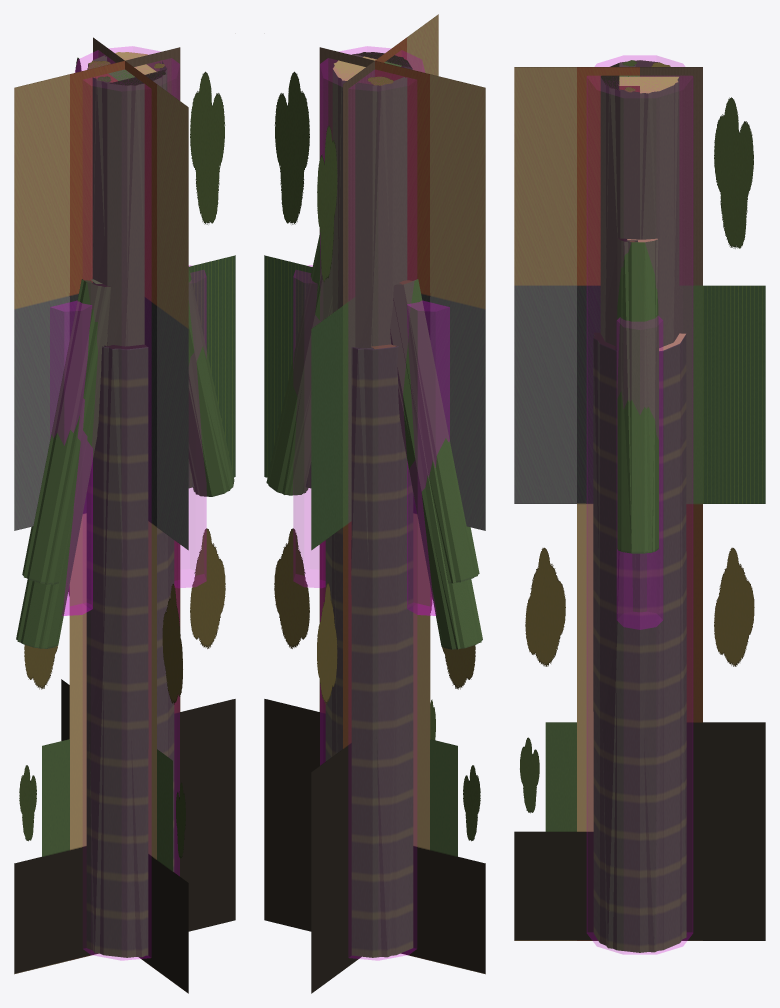
Rendered from saguaro_multi.dae.
The picture shows the model from 3 angles, left to right: view 1: azimuth 30°, elevation 25°; view 2: azimuth 150°, elevation 25°; view 3: azimuth 270°, elevation 25°; orthographic projection.
Visible parts, largest first — view 1: saguaro_multi_a50, saguaro_multi_a800, Colmesh_trunk-1, saguaro_multi_a200, Colmesh_arm0-1, Colmesh_arm1-1; view 2: saguaro_multi_a50, saguaro_multi_a800, Colmesh_trunk-1, saguaro_multi_a200, Colmesh_arm0-1, Colmesh_arm1-1; view 3: saguaro_multi_a50, Colmesh_trunk-1, saguaro_multi_a800, saguaro_multi_a200, Colmesh_arm1-1.
Boxes of the visible parts, x1,y1,x2,y2 form: saguaro_multi_a50: (14, 37, 235, 993); saguaro_multi_a800: (16, 52, 234, 957); Colmesh_trunk-1: (75, 46, 179, 960); saguaro_multi_a200: (17, 52, 232, 957); Colmesh_arm0-1: (50, 301, 92, 615); Colmesh_arm1-1: (174, 265, 206, 587); saguaro_multi_a50: (264, 14, 485, 993); saguaro_multi_a800: (268, 52, 482, 957); Colmesh_trunk-1: (320, 46, 424, 960); saguaro_multi_a200: (266, 52, 481, 957); Colmesh_arm0-1: (407, 301, 449, 615); Colmesh_arm1-1: (293, 265, 325, 587); saguaro_multi_a50: (514, 67, 765, 940); Colmesh_trunk-1: (587, 55, 692, 954); saguaro_multi_a800: (593, 60, 686, 952); saguaro_multi_a200: (593, 60, 686, 952); Colmesh_arm1-1: (617, 316, 662, 629).
Size of the model in its own units: 1.65 by 1.65 by 6.32.
Materials: 2 (1 with a texture image).
